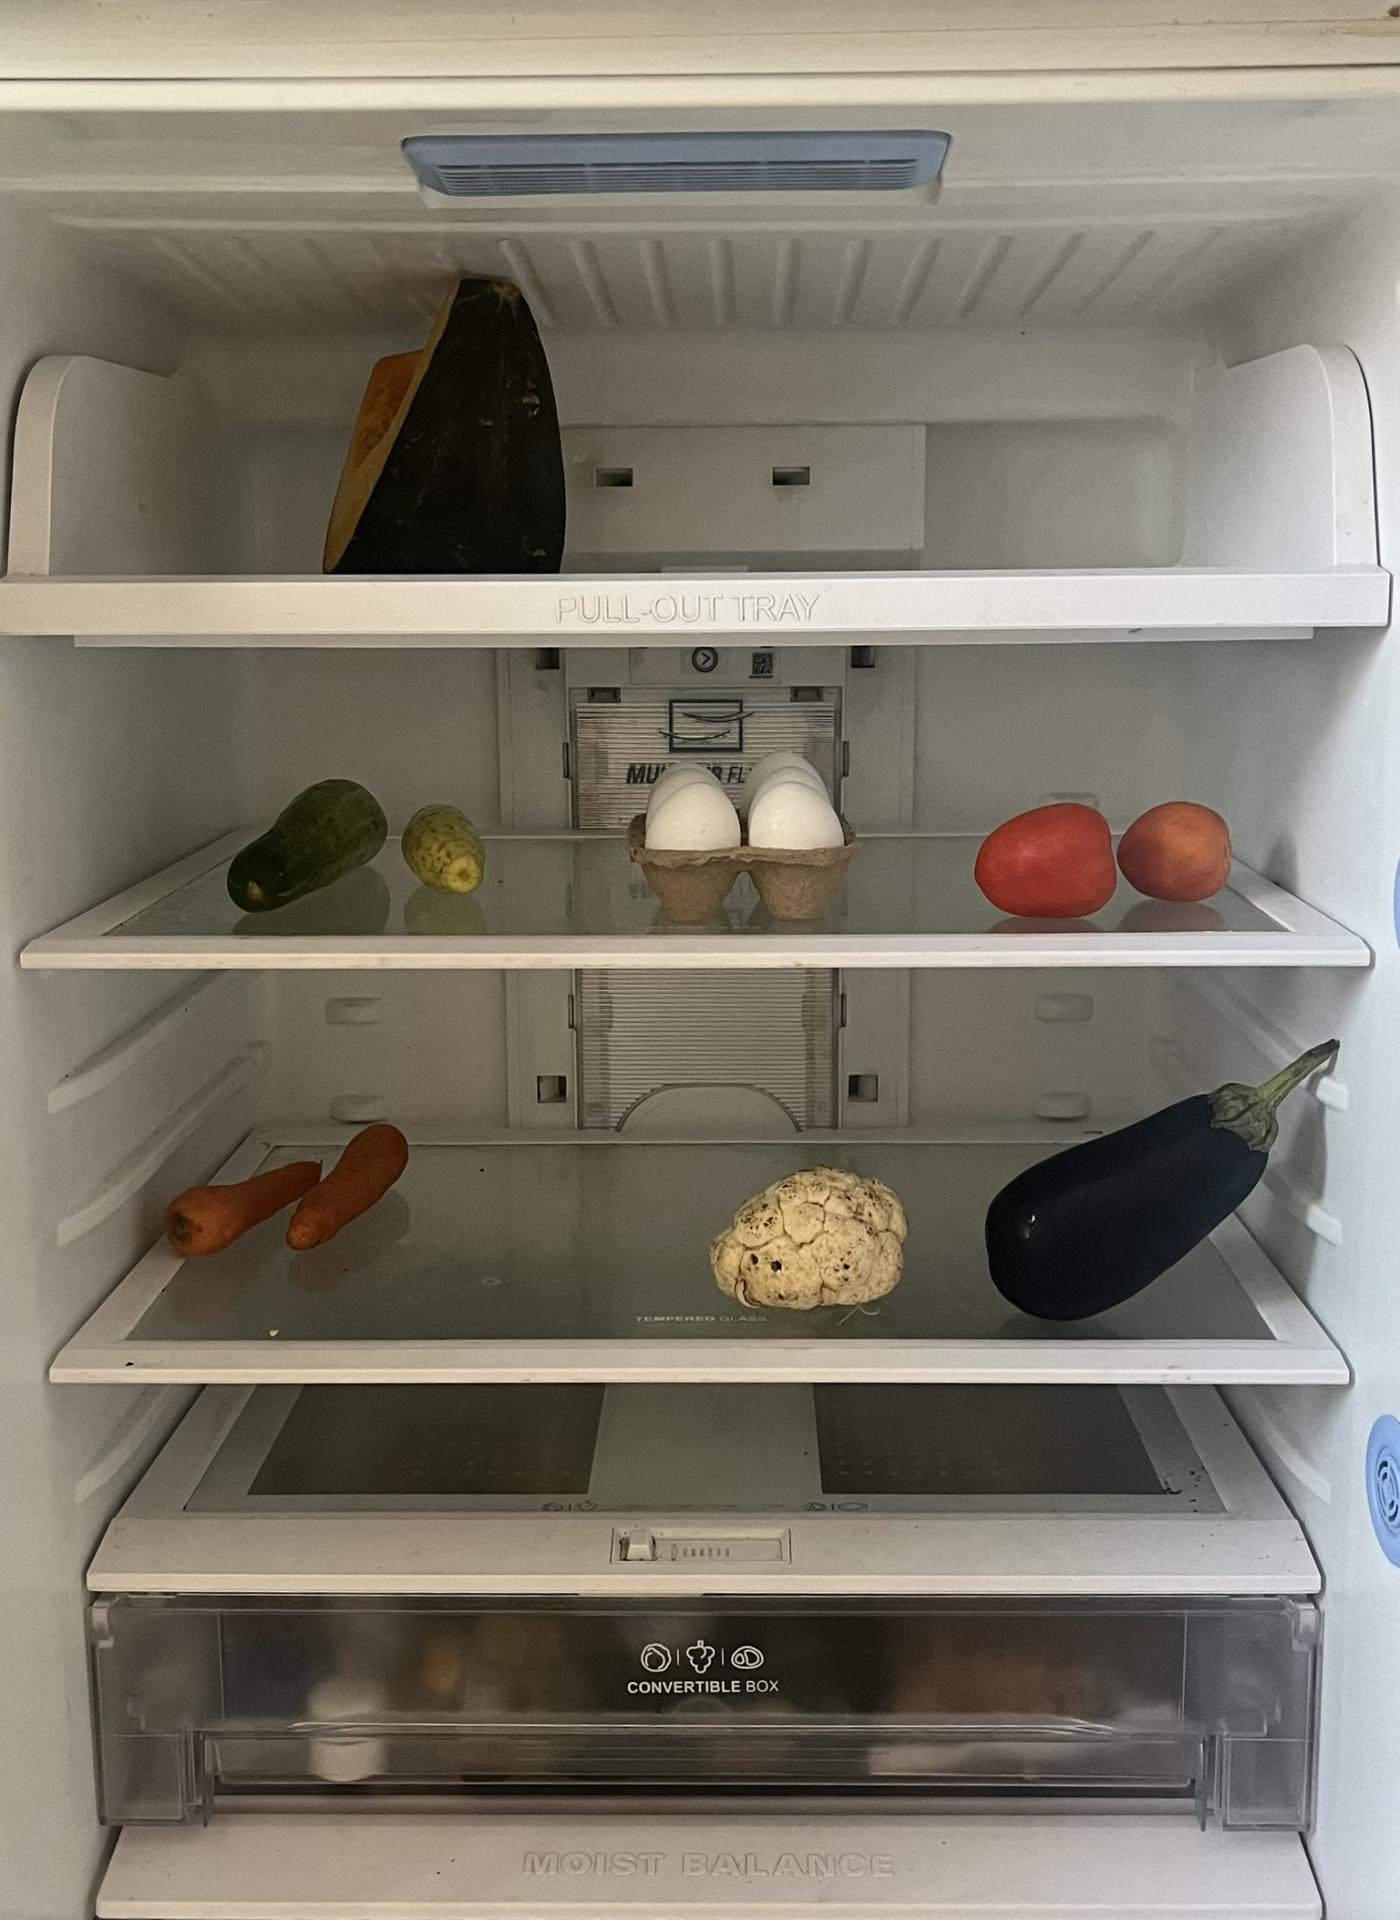brinjal: (977, 1060, 1324, 1322)
carrots: (163, 1152, 341, 1254), (285, 1118, 413, 1251)
cauliflower: (707, 1167, 911, 1306)
cucumber: (230, 780, 498, 915)
egg: (628, 774, 842, 924)
pumpkin: (304, 270, 571, 571)
tomato: (974, 796, 1232, 915)
